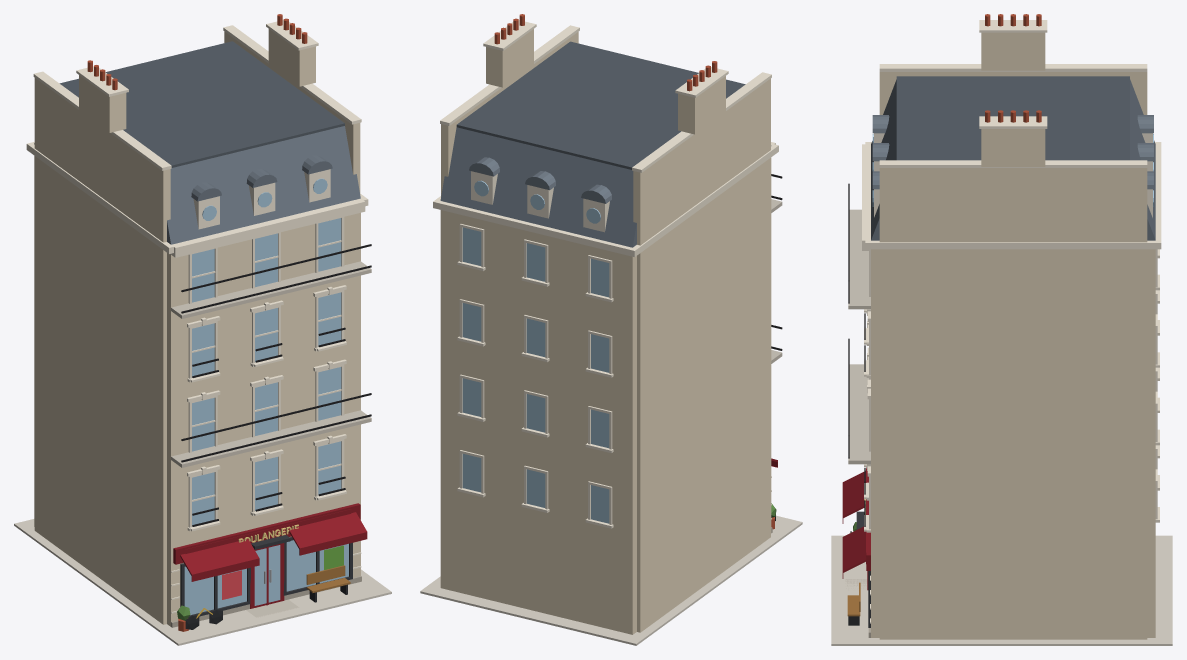
File: Dukkan_cadde_firin_Hafif.fbx
3 renders of one model, left to right at view 1: azimuth 30°, elevation 25°; view 2: azimuth 150°, elevation 25°; view 3: azimuth 270°, elevation 25°, orthographic. The views are drawn at different scales.
Parts seen in each view (by area): view 1: Dukkan_cadde_firin_Hafif; view 2: Dukkan_cadde_firin_Hafif; view 3: Dukkan_cadde_firin_Hafif.
Part boxes in pixels (left/top/right/bottom): Dukkan_cadde_firin_Hafif: left=14, top=14, right=391, bottom=645; Dukkan_cadde_firin_Hafif: left=420, top=14, right=802, bottom=645; Dukkan_cadde_firin_Hafif: left=831, top=14, right=1172, bottom=645.
Bounding box in the file's own units: 9 × 20.52 × 12.
